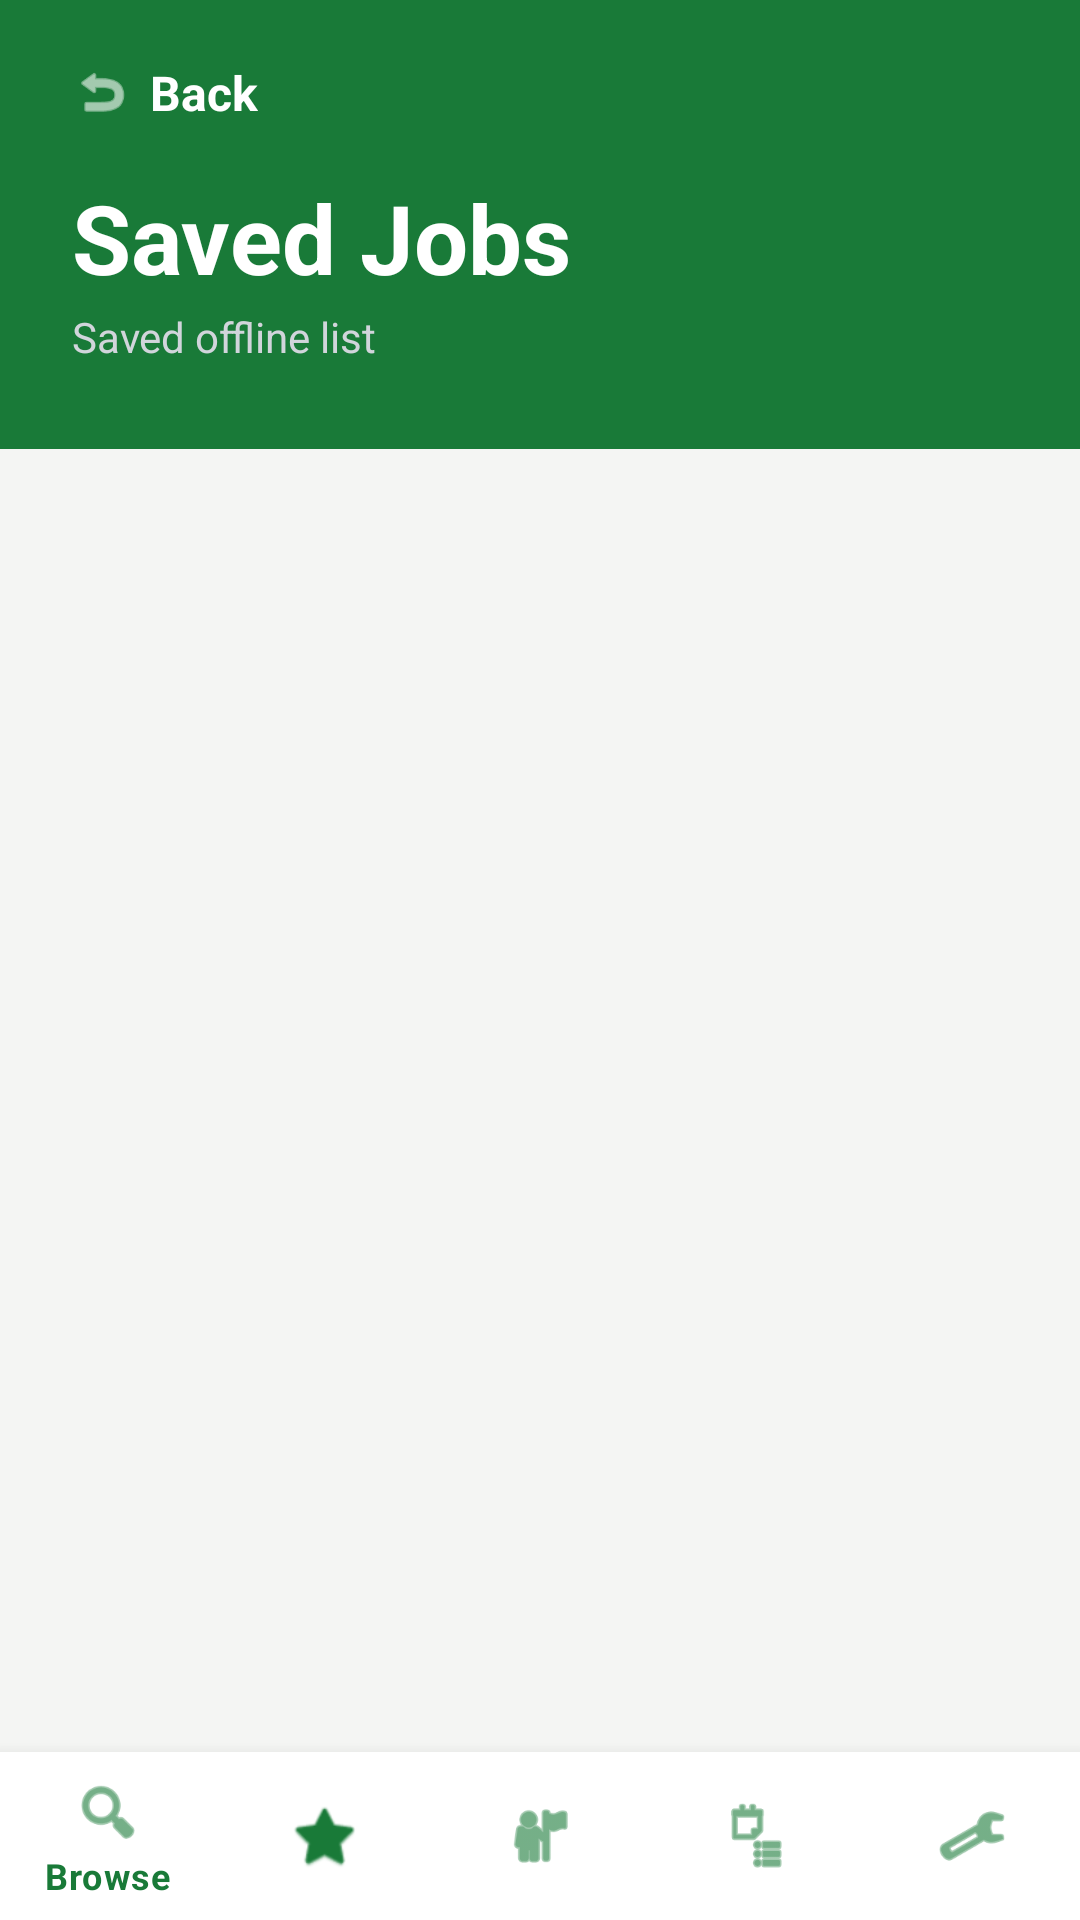

Screen size 1080×1920. Icon name, then its center in pixels as (x,y):
revert: (102,92)
